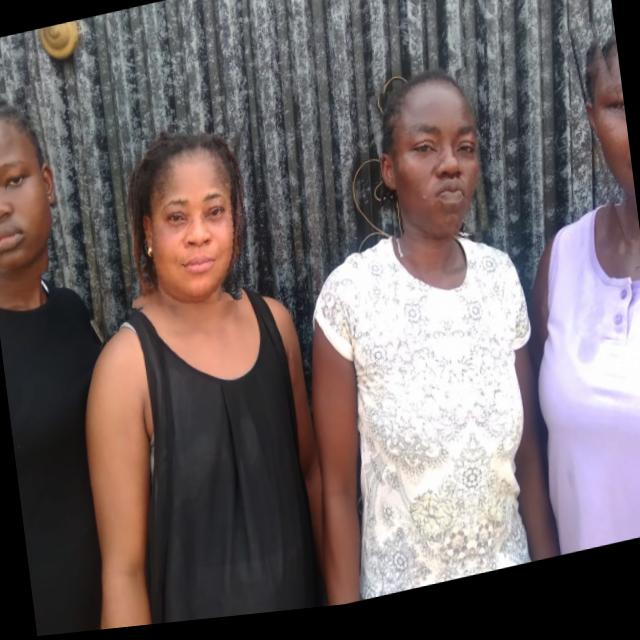happy: (118, 125, 258, 323)
sad: (368, 75, 498, 268), (566, 26, 640, 262), (0, 79, 72, 283)
